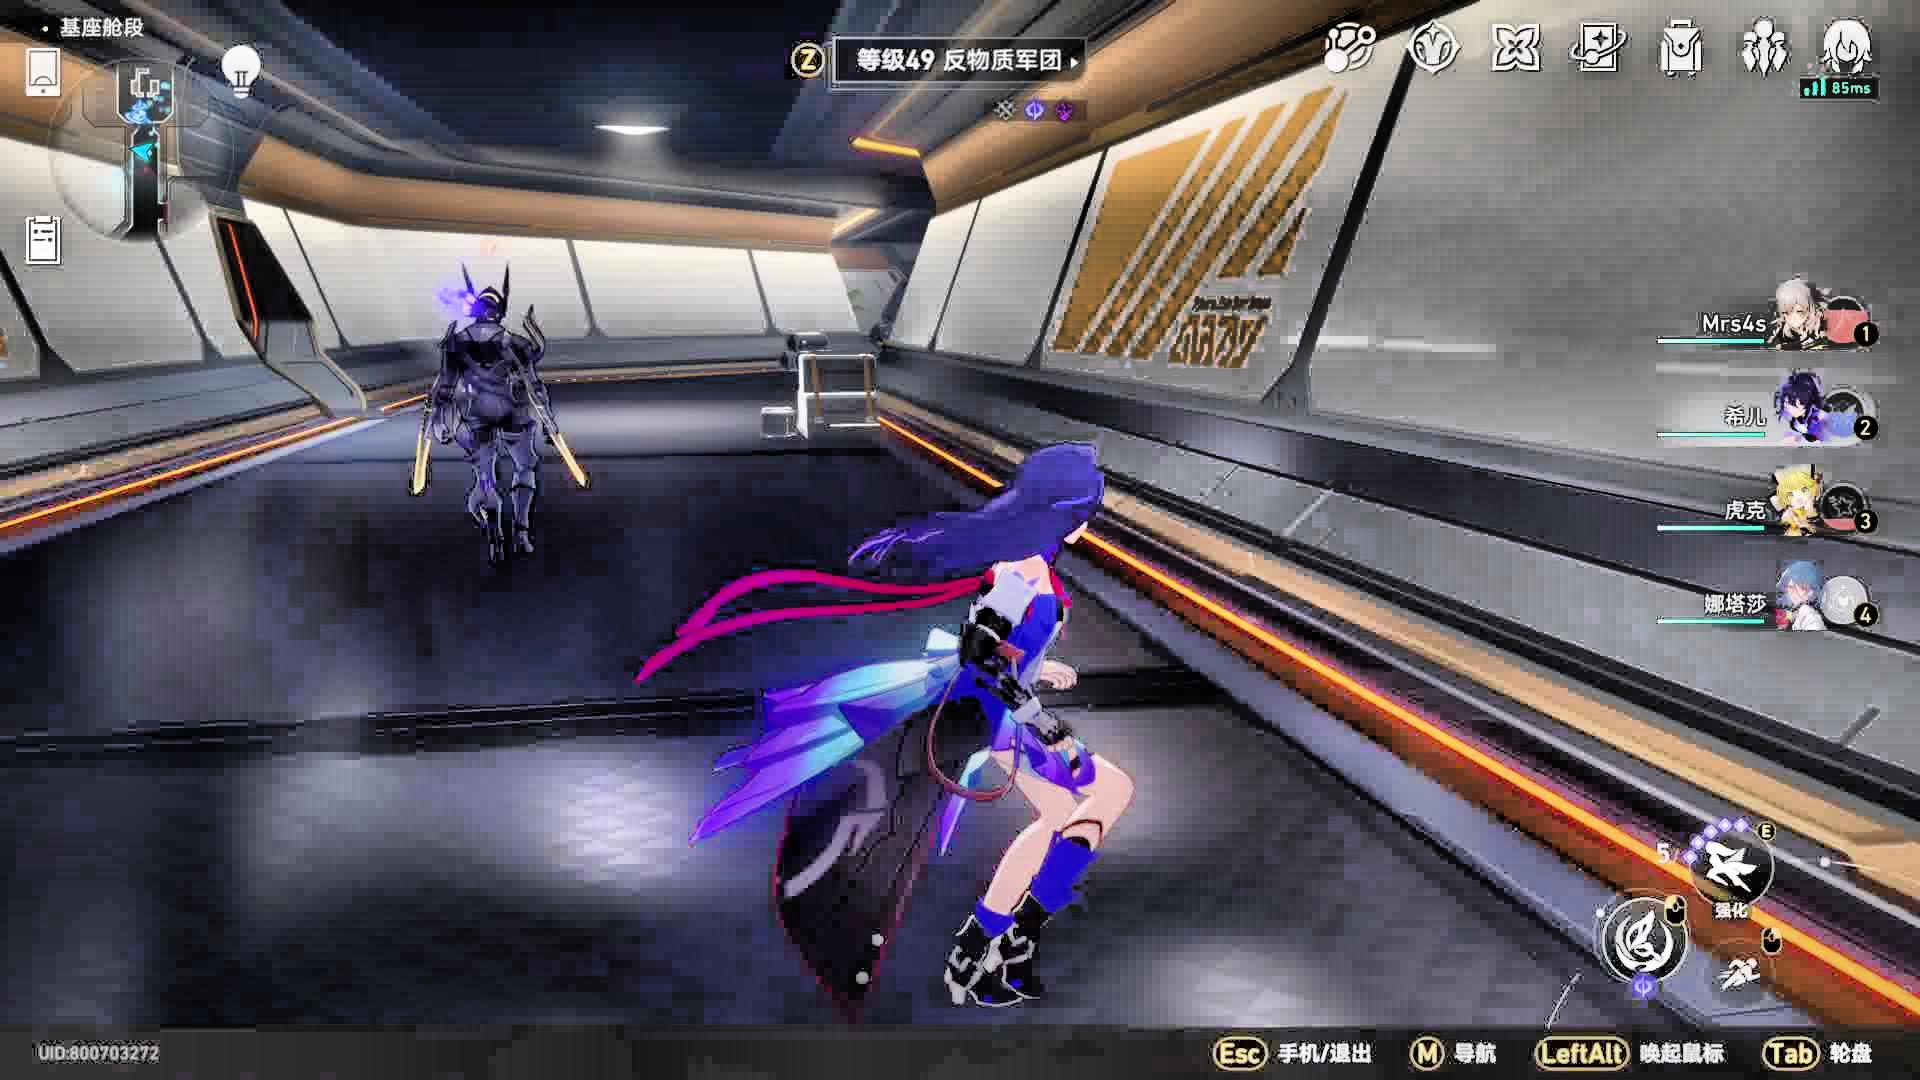Box: (754, 353, 881, 439), (773, 331, 825, 367)
Enemy: (410, 261, 592, 562)
Self: (636, 442, 1139, 1009)
